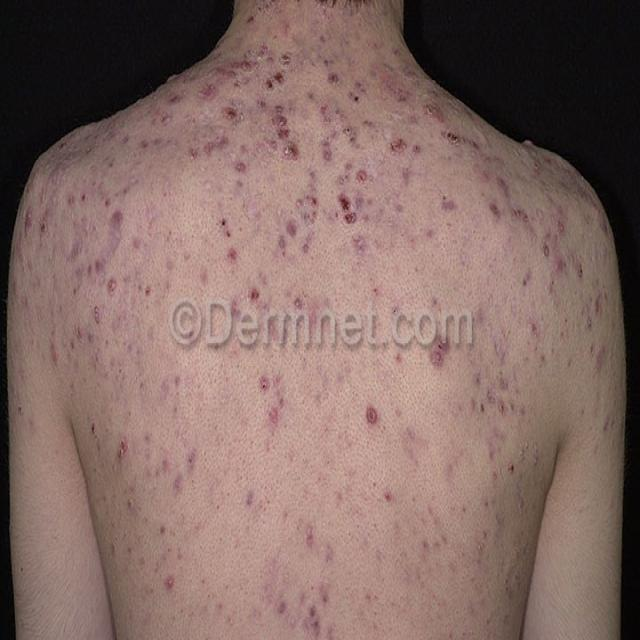acne: (282, 517, 342, 638), (250, 370, 300, 440), (420, 322, 470, 384), (271, 94, 297, 168), (352, 386, 387, 434)
